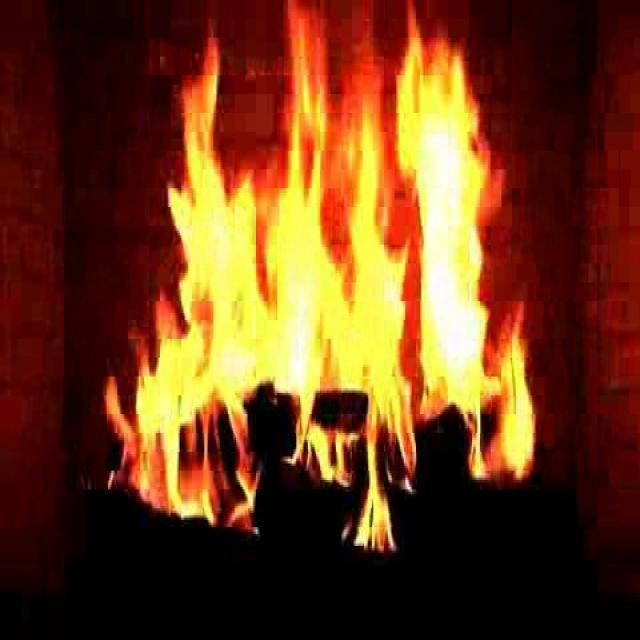fire: (115, 21, 551, 530)
